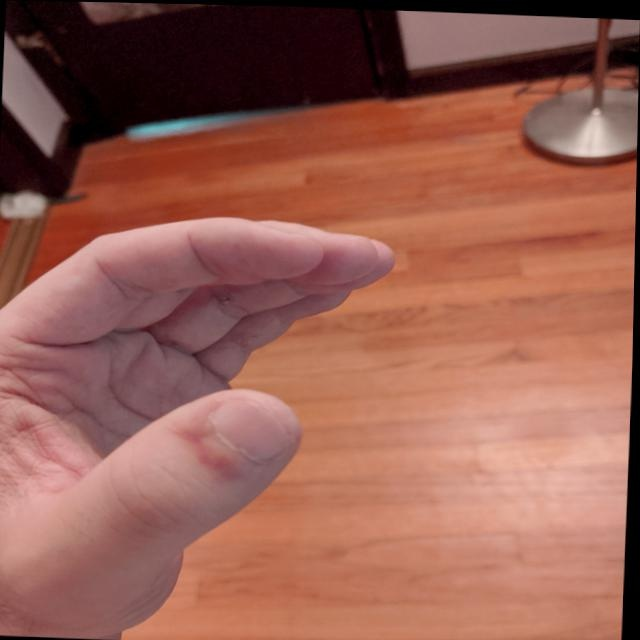C: (0, 200, 406, 639)
